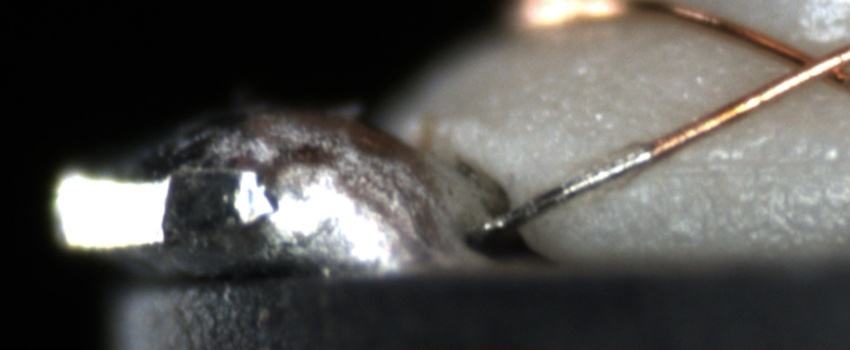CL: (770, 36, 848, 93)
DL: (659, 133, 850, 199)
TS: (479, 146, 651, 232)
